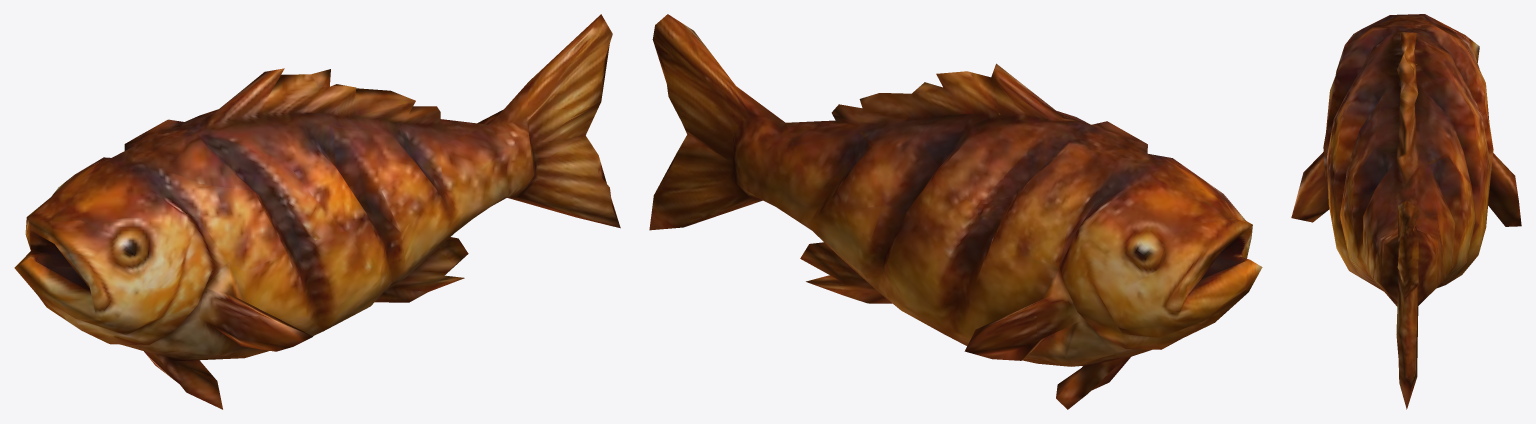
The model's file is meal_roastFish-mobile.glb.
The picture shows the model from 3 angles, left to right: view 1: azimuth 30°, elevation 25°; view 2: azimuth 150°, elevation 25°; view 3: azimuth 270°, elevation 25°; orthographic projection. The views are drawn at different scales.
Parts seen in each view (by area): view 1: tripo_node_136f309f-9312-4609-adac-678ef4ffadf4; view 2: tripo_node_136f309f-9312-4609-adac-678ef4ffadf4; view 3: tripo_node_136f309f-9312-4609-adac-678ef4ffadf4.
Part boxes in pixels (x1,y1,x2,y2): tripo_node_136f309f-9312-4609-adac-678ef4ffadf4: (14, 14, 620, 409); tripo_node_136f309f-9312-4609-adac-678ef4ffadf4: (649, 14, 1262, 409); tripo_node_136f309f-9312-4609-adac-678ef4ffadf4: (1291, 14, 1521, 409).
Bounding box in the file's own units: 0.9789 × 0.5001 × 0.3554.
1 material, 1 textured.
